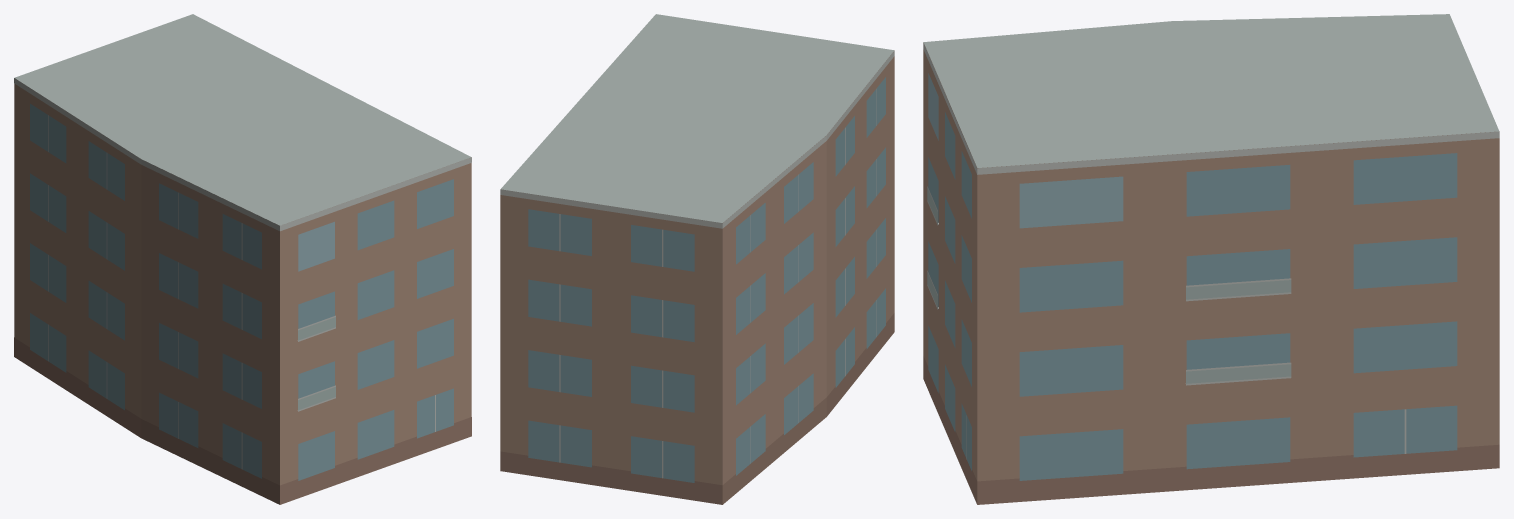
Rendered from residential-b7be8cba-2451-41cb-b33c-49d78ba594fc.glb.
3 renders of one model, left to right at view 1: azimuth 30°, elevation 25°; view 2: azimuth 150°, elevation 25°; view 3: azimuth 270°, elevation 25°, orthographic. The views are drawn at different scales.
Parts seen in each view (by area): view 1: residential-b7be8cba-2451-41cb-b33c-49d78ba594fc.tmp; view 2: residential-b7be8cba-2451-41cb-b33c-49d78ba594fc.tmp; view 3: residential-b7be8cba-2451-41cb-b33c-49d78ba594fc.tmp.
Boxes of the visible parts, bbox=[...] form: residential-b7be8cba-2451-41cb-b33c-49d78ba594fc.tmp: bbox=[14, 14, 471, 504]; residential-b7be8cba-2451-41cb-b33c-49d78ba594fc.tmp: bbox=[500, 14, 894, 504]; residential-b7be8cba-2451-41cb-b33c-49d78ba594fc.tmp: bbox=[923, 14, 1499, 504].
Bounding box in the file's own units: 11.98 × 12.2 × 18.92.
